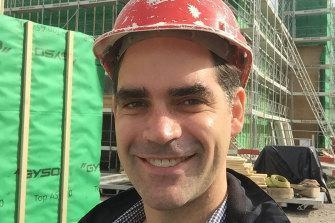helmet: (92, 0, 253, 87)
